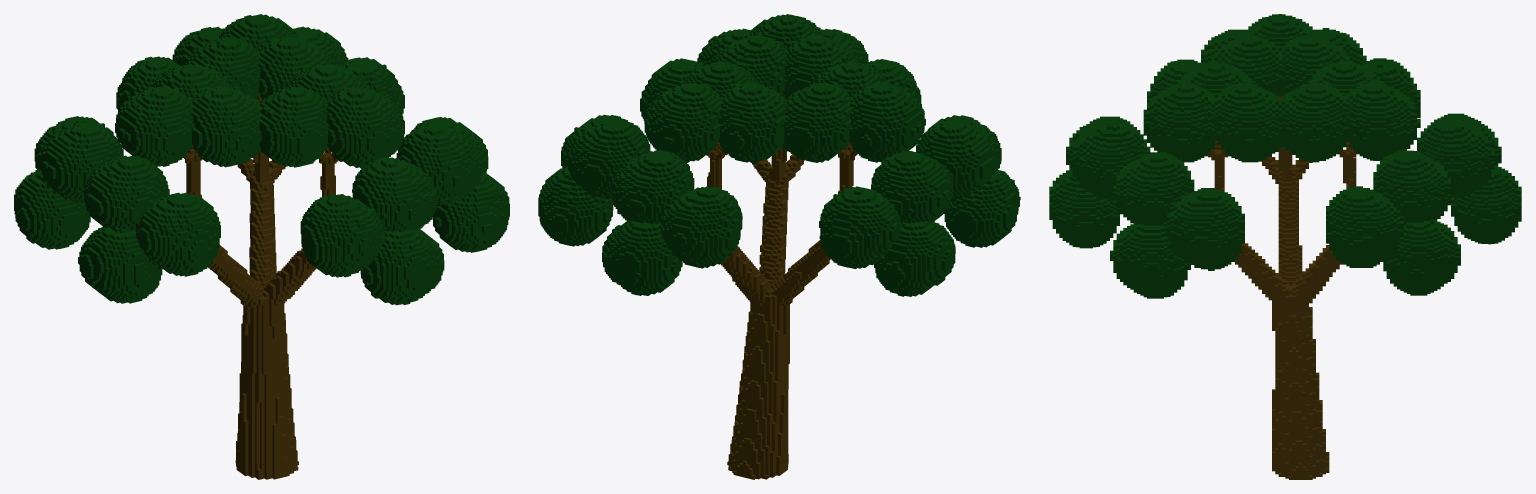
File: Tree4-0-0.obj
3 renders of one model, left to right at view 1: azimuth 30°, elevation 25°; view 2: azimuth 150°, elevation 25°; view 3: azimuth 270°, elevation 25°, orthographic. The views are drawn at different scales.
Visible parts, largest first — view 1: 0; view 2: 0; view 3: 0.
Boxes of the visible parts, x1=… form: 0: x1=14, y1=14, x2=509, y2=479; 0: x1=538, y1=14, x2=1020, y2=479; 0: x1=1049, y1=14, x2=1521, y2=479.
Size of the model in its own units: 12.6 by 12.9 by 14.
1 material, 1 textured.
